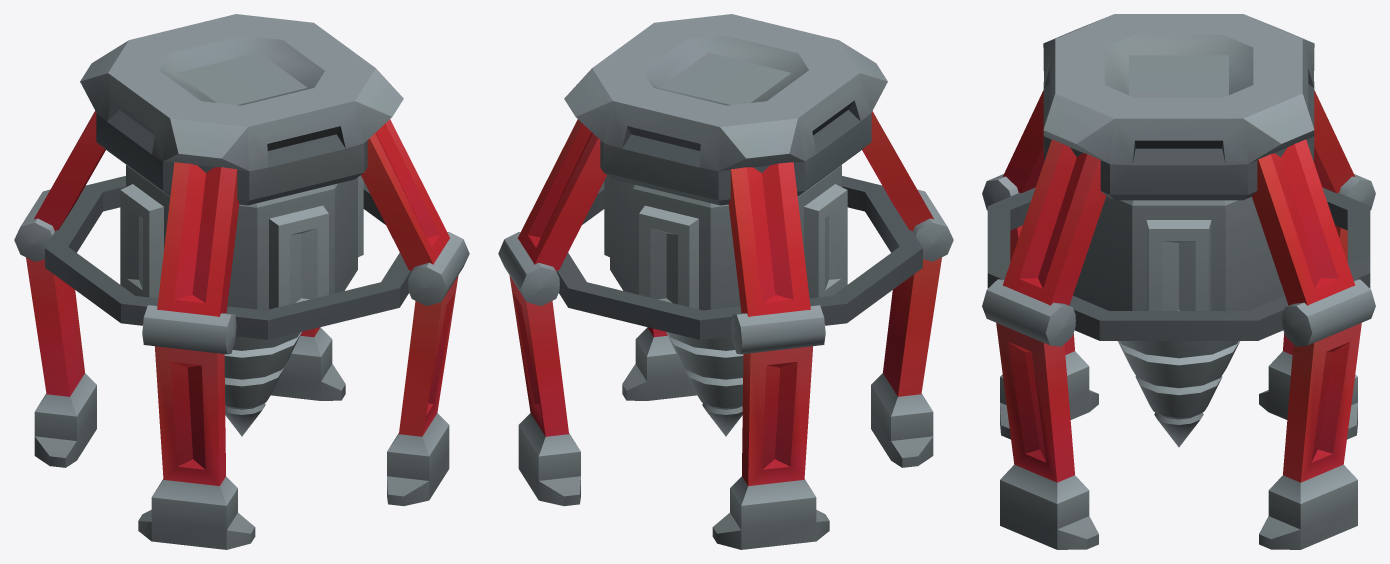
Rendered from kay-perfuratriz.gltf.
3 views of the same model, side by side, from view 1: azimuth 30°, elevation 25°; view 2: azimuth 150°, elevation 25°; view 3: azimuth 270°, elevation 25° (orthographic). The views are drawn at different scales.
Parts seen in each view (by area): view 1: drill_structure; view 2: drill_structure; view 3: drill_structure.
Part boxes in pixels (x1=…): drill_structure: x1=14, y1=14, x2=469, y2=549; drill_structure: x1=498, y1=14, x2=953, y2=549; drill_structure: x1=982, y1=14, x2=1375, y2=549.
Size of the model in its own units: 4.55 by 5.2 by 4.55.
Materials: 1 (1 with a texture image).
